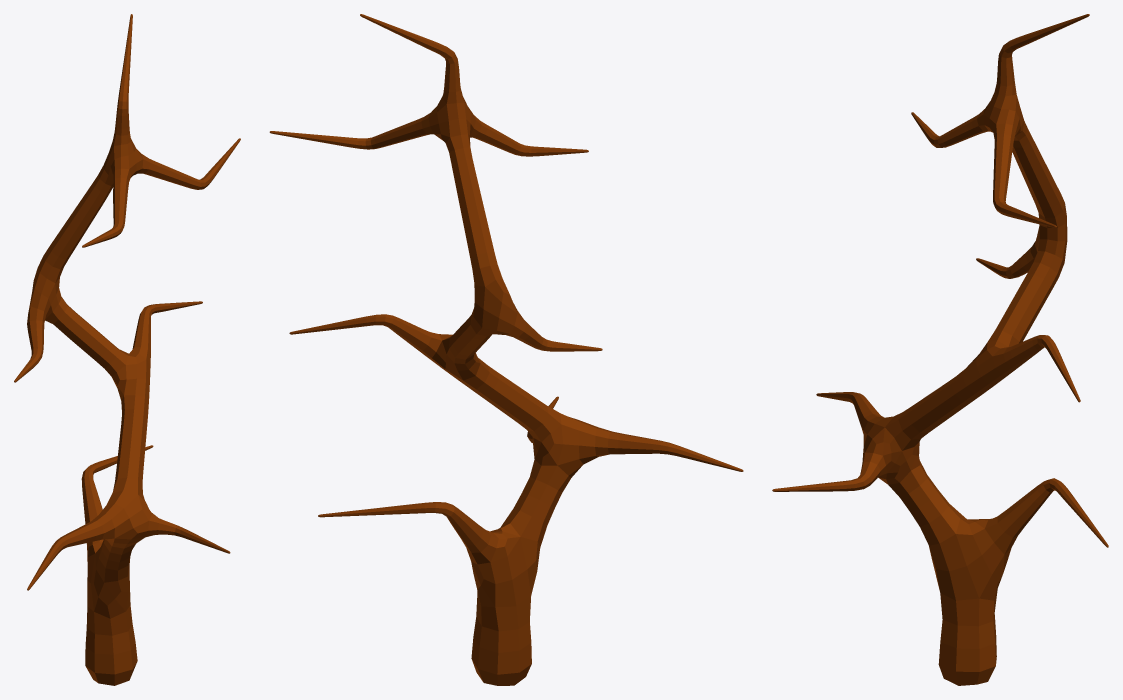
The model's file is tree3 1.obj.
3 renders of one model, left to right at view 1: azimuth 30°, elevation 25°; view 2: azimuth 150°, elevation 25°; view 3: azimuth 270°, elevation 25°, orthographic. The views are drawn at different scales.
Parts seen in each view (by area): view 1: Cube; view 2: Cube; view 3: Cube.
Boxes of the visible parts, box(x1,y1,x2,y2) form: Cube: box(14, 14, 240, 685); Cube: box(269, 14, 743, 685); Cube: box(772, 14, 1108, 685).
Bounding box in the file's own units: 8.84 × 16.38 × 7.03.
